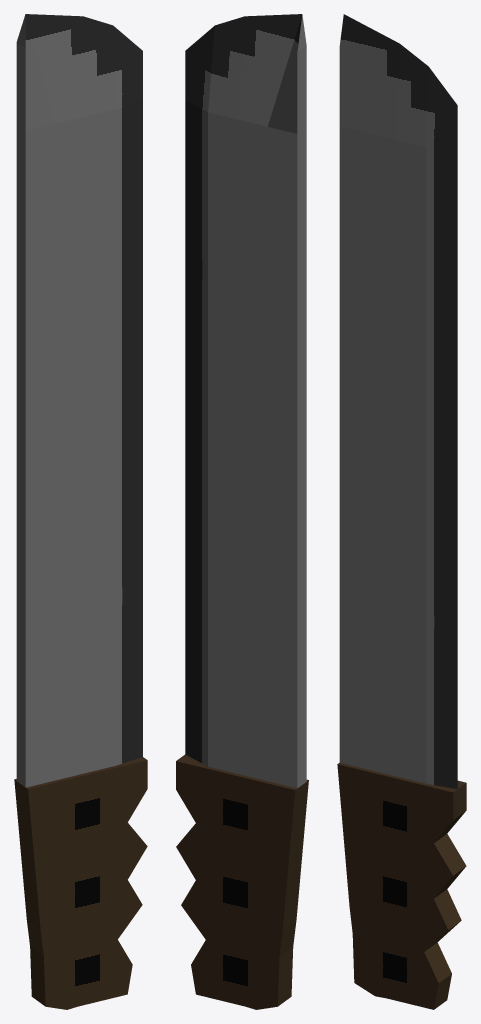
Rendered from machete.gltf.
The picture shows the model from 3 angles, left to right: view 1: azimuth 30°, elevation 25°; view 2: azimuth 150°, elevation 25°; view 3: azimuth 330°, elevation 25°; orthographic projection. The views are drawn at different scales.
Parts seen in each view (by area): view 1: mesh (×2); view 2: mesh (×2); view 3: mesh (×2).
Part boxes in pixels (x1=…): mesh (×2): x1=14, y1=14, x2=147, y2=1009; mesh (×2): x1=176, y1=14, x2=308, y2=1009; mesh (×2): x1=337, y1=14, x2=466, y2=1009.
Bounding box in the file's own units: 0.00938 × 0.0751 × 0.00187.
2 materials, 2 textured.
